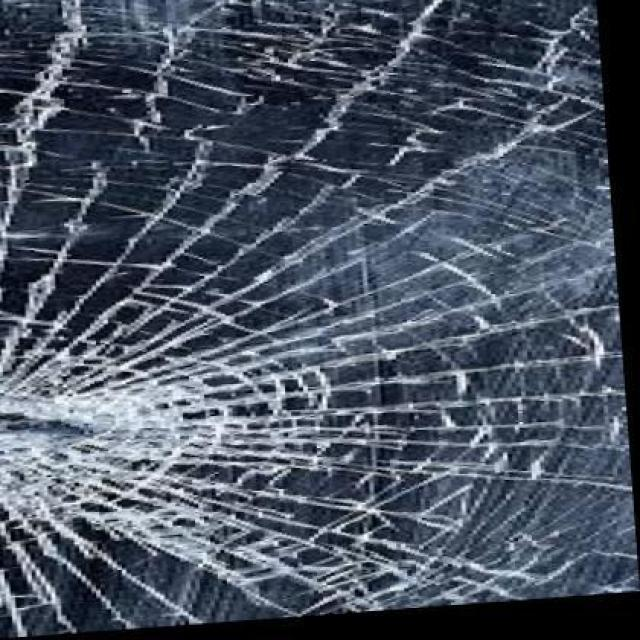cracked: (5, 1, 612, 638)
